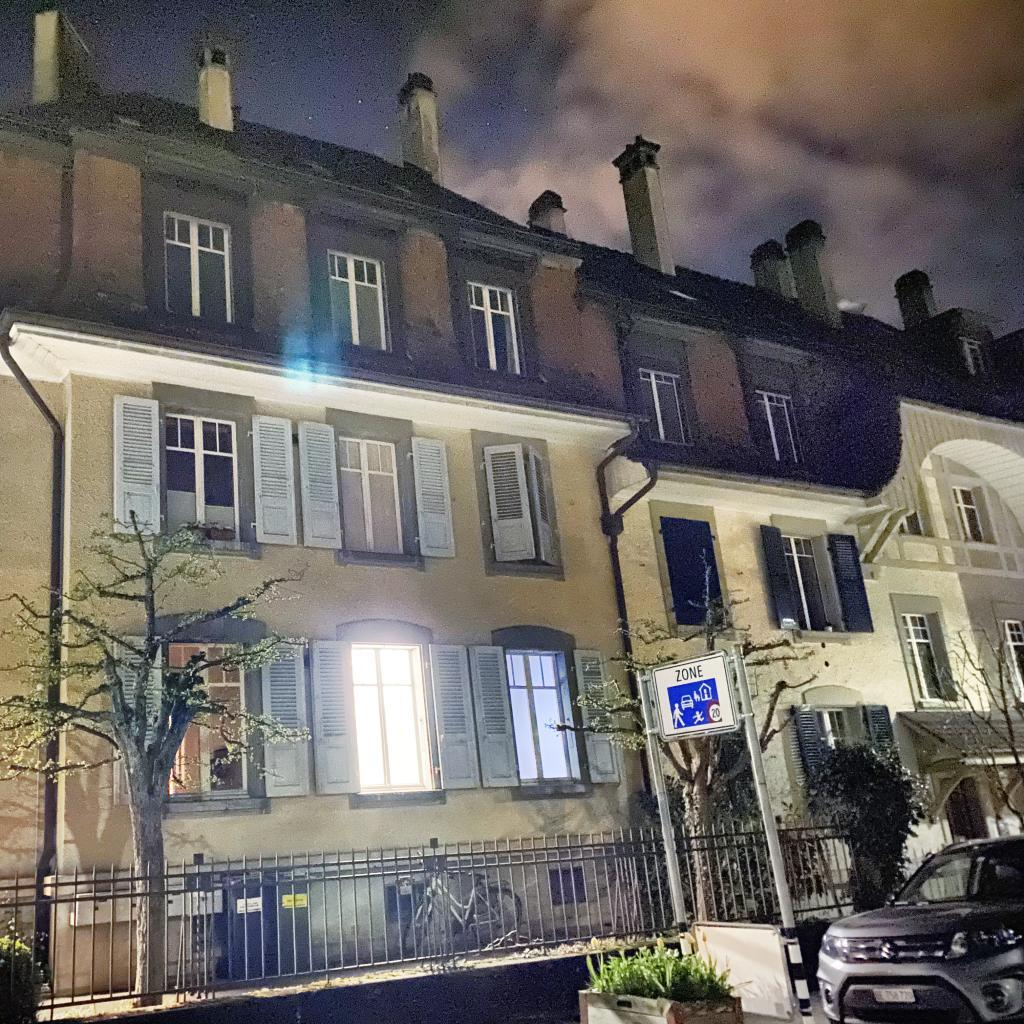car: (815, 833, 1024, 1024)
facade: (2, 9, 1024, 1024)
fence: (2, 818, 863, 1024)
traffic-infrastructure: (635, 644, 815, 1023)
vegetation: (515, 543, 939, 1005), (0, 504, 315, 1003), (893, 607, 1024, 833), (0, 884, 51, 1024)
window: (350, 643, 436, 794), (165, 642, 246, 799), (503, 649, 583, 784), (161, 410, 240, 545), (479, 444, 558, 568), (334, 435, 405, 556), (161, 210, 234, 324), (658, 514, 728, 626), (325, 248, 393, 353), (779, 533, 846, 633), (465, 279, 523, 378), (812, 705, 872, 793), (636, 367, 695, 446), (751, 388, 806, 467), (899, 613, 947, 702), (999, 619, 1024, 703), (951, 487, 986, 543), (959, 335, 992, 377), (899, 510, 924, 535)
